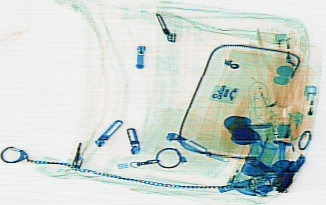lighter: (276, 107, 303, 156), (274, 31, 293, 84), (299, 83, 316, 137)
